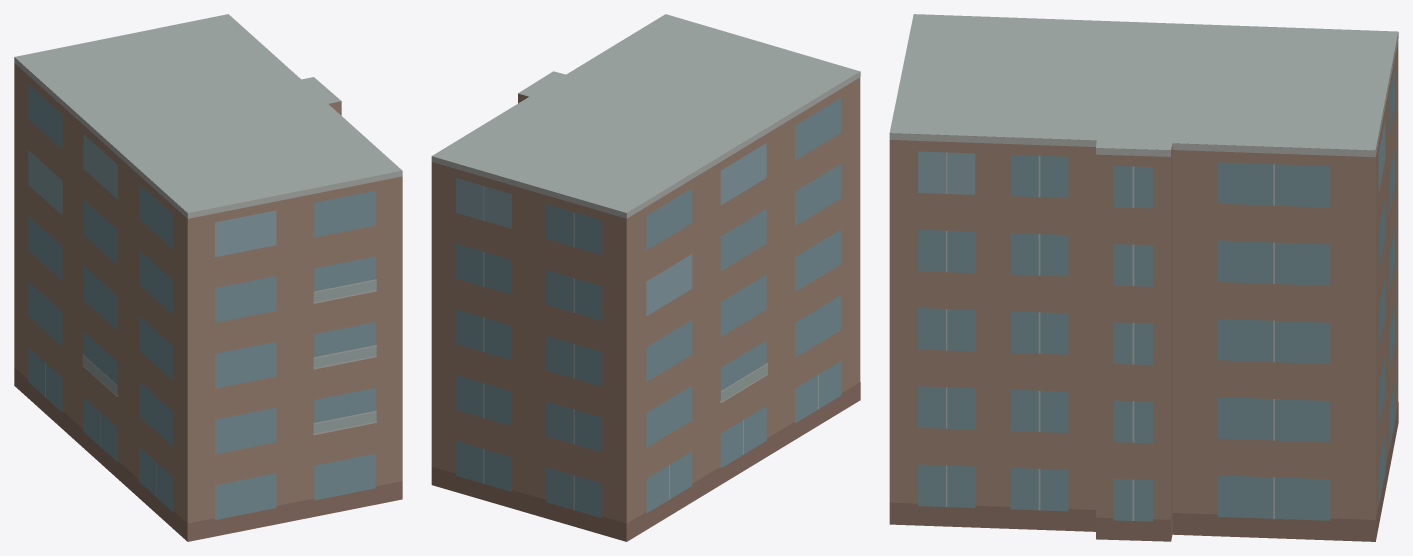
Rendered from survey-upis-32956149.glb.
3 views of the same model, side by side, from view 1: azimuth 30°, elevation 25°; view 2: azimuth 150°, elevation 25°; view 3: azimuth 270°, elevation 25° (orthographic). The views are drawn at different scales.
Visible parts, largest first — view 1: survey-upis-32956149.tmp; view 2: survey-upis-32956149.tmp; view 3: survey-upis-32956149.tmp.
Part boxes in pixels (<box>): survey-upis-32956149.tmp: <box>14,14,402,541</box>; survey-upis-32956149.tmp: <box>431,14,860,541</box>; survey-upis-32956149.tmp: <box>889,14,1398,541</box>.
Bounding box in the file's own units: 10.55 × 14.1 × 16.62.
